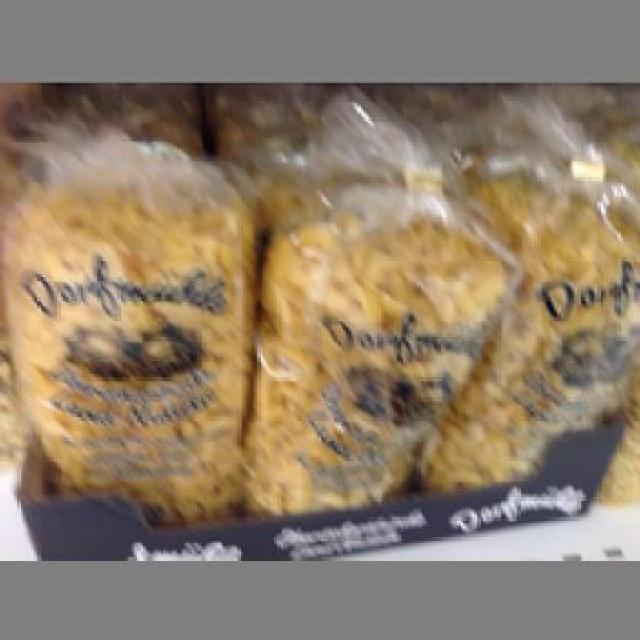Pasta: (0, 147, 255, 518), (254, 154, 500, 506), (432, 171, 634, 484)
